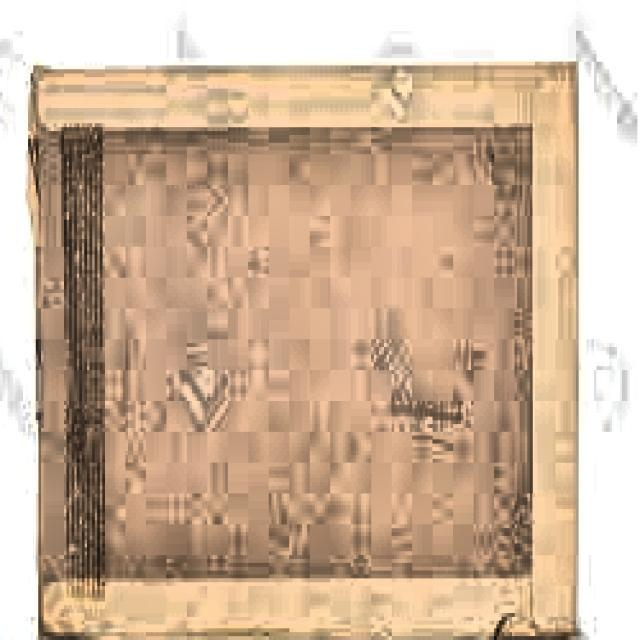cardboard: (28, 58, 581, 640)
